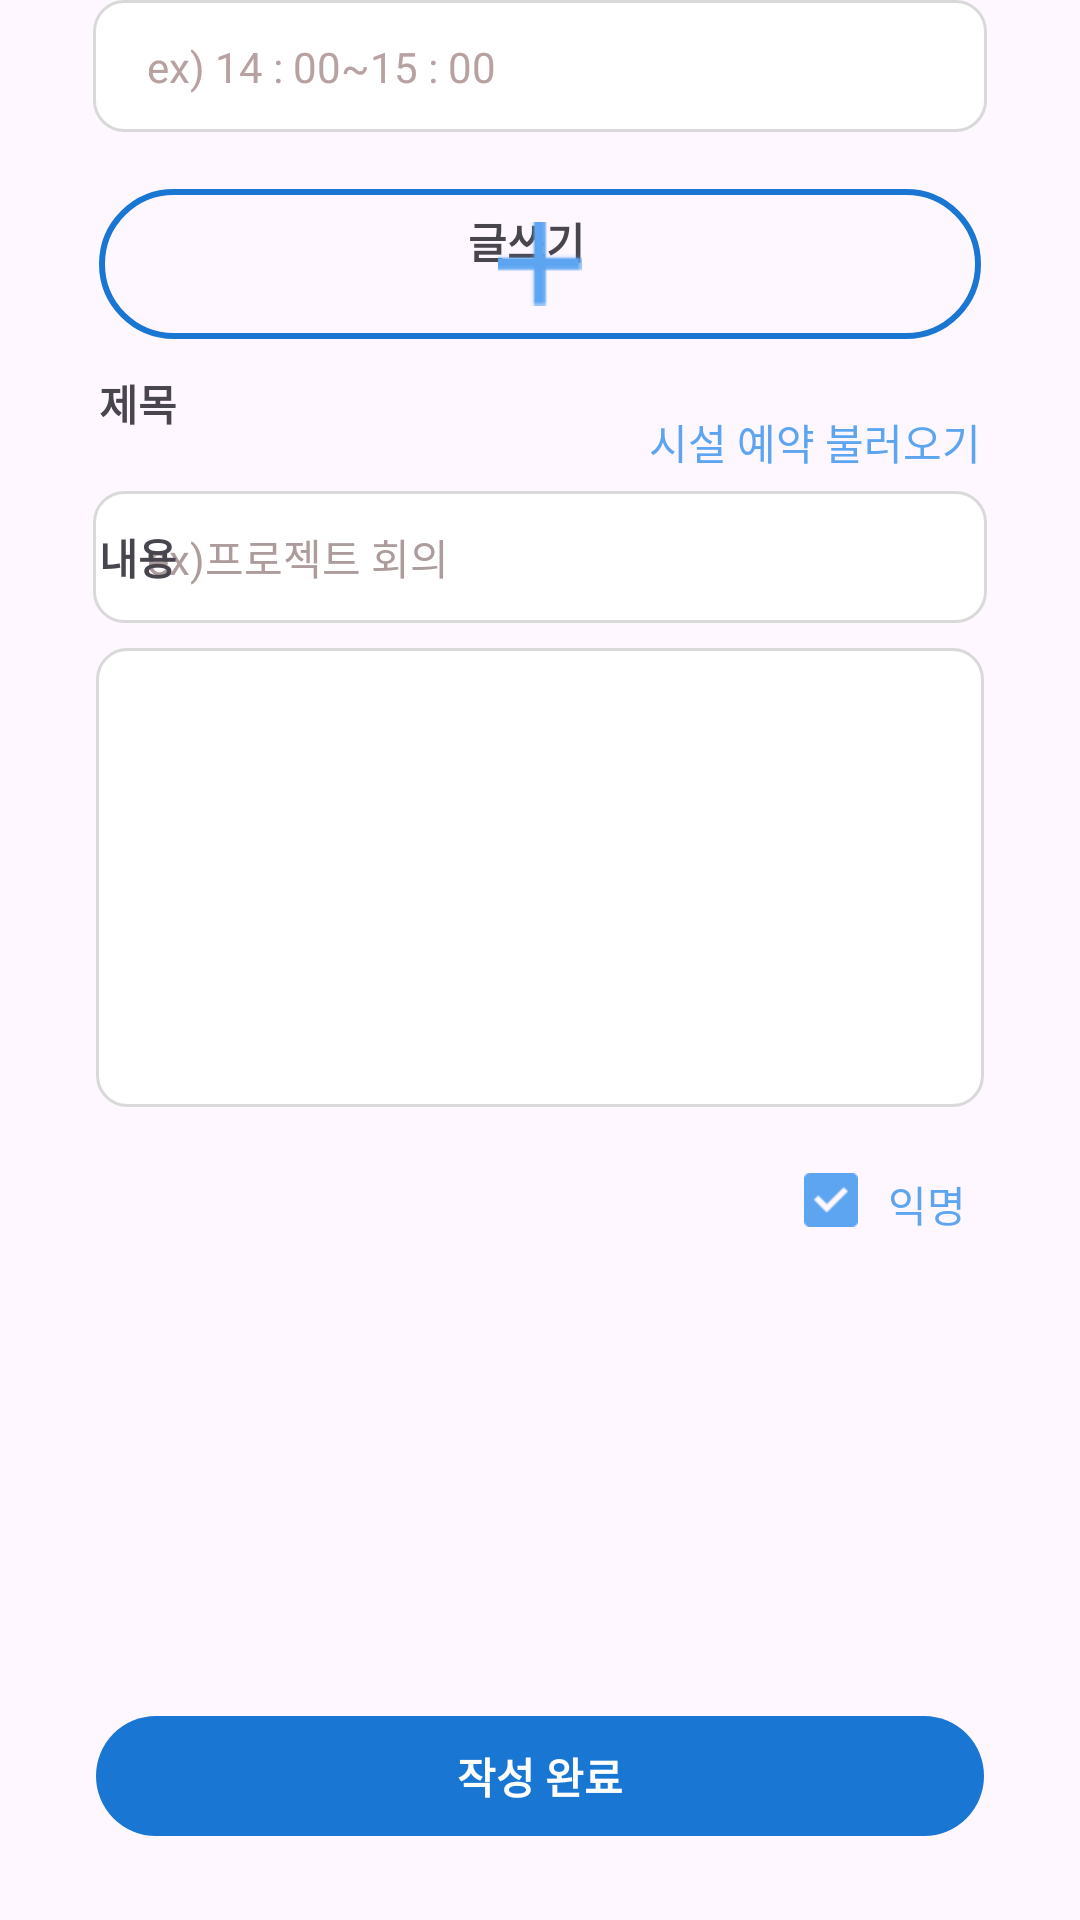

Where to tap for icons on this 1080 × 1920 app screen, as [x,y]:
checkbox: [831,1200]
